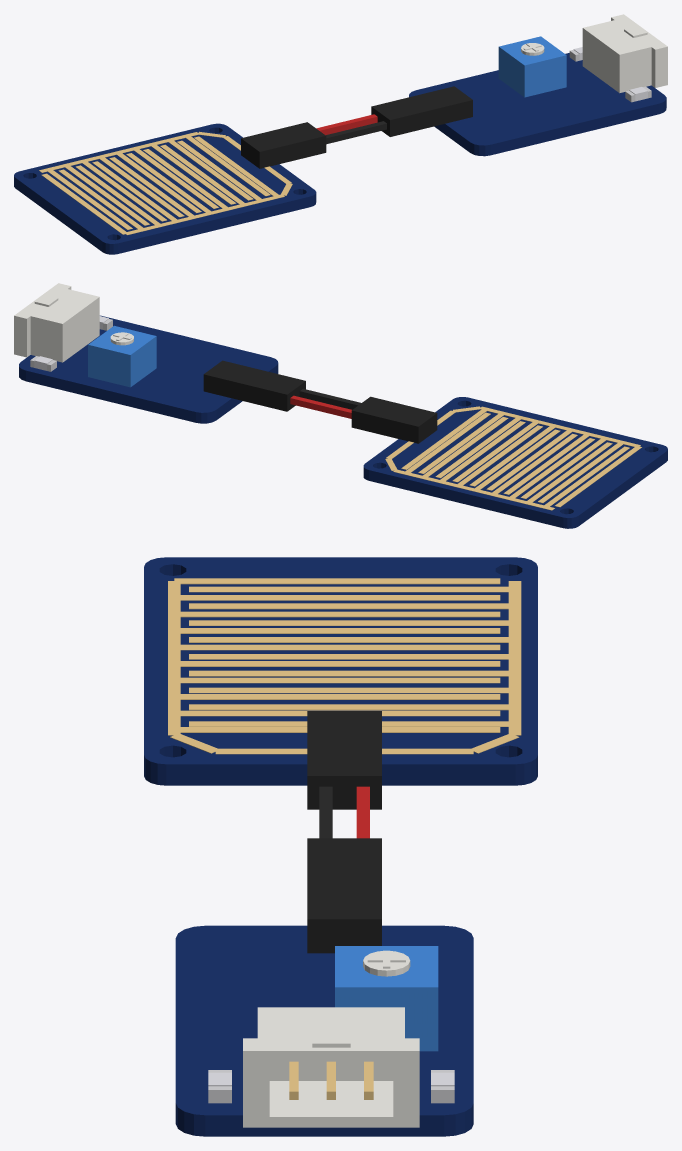
Rendered from rain.glb.
3 views of the same model, one above another, from view 1: azimuth 30°, elevation 25°; view 2: azimuth 150°, elevation 25°; view 3: azimuth 270°, elevation 25° (orthographic). The views are drawn at different scales.
Parts seen in each view (by area): view 1: rain_plate, rain_pcb, rain_comb, rain_xh, rain_pot, rain_h1, rain_jumper_a, rain_jumper_b, rain_plate_h1, rain_wire_black, rain_wire_red; view 2: rain_plate, rain_comb, rain_pcb, rain_xh, rain_pot, rain_h1, rain_jumper_a, rain_jumper_b, rain_plate_h1, rain_wire_red, rain_wire_black; view 3: rain_plate, rain_comb, rain_pcb, rain_xh, rain_pot, rain_h1, rain_jumper_b, rain_jumper_a, rain_plate_h1, rain, rain_pot_screw.
Boxes of the visible parts, left/top/right/bottom form: rain_plate: left=14, top=123, right=316, bottom=254; rain_pcb: left=409, top=53, right=666, bottom=156; rain_comb: left=39, top=131, right=292, bottom=235; rain_xh: left=582, top=14, right=667, bottom=93; rain_pot: left=498, top=36, right=566, bottom=97; rain_h1: left=410, top=86, right=472, bottom=127; rain_jumper_a: left=371, top=97, right=428, bottom=136; rain_jumper_b: left=269, top=122, right=326, bottom=161; rain_plate_h1: left=241, top=131, right=287, bottom=168; rain_wire_black: left=326, top=121, right=386, bottom=144; rain_wire_red: left=316, top=114, right=377, bottom=135; rain_plate: left=363, top=397, right=667, bottom=528; rain_comb: left=385, top=406, right=641, bottom=510; rain_pcb: left=19, top=315, right=278, bottom=423; rain_xh: left=14, top=283, right=99, bottom=362; rain_pot: left=88, top=325, right=156, bottom=387; rain_h1: left=203, top=360, right=266, bottom=402; rain_jumper_a: left=248, top=371, right=305, bottom=411; rain_jumper_b: left=351, top=396, right=408, bottom=436; rain_plate_h1: left=390, top=406, right=437, bottom=443; rain_wire_red: left=290, top=395, right=351, bottom=418; rain_wire_black: left=299, top=388, right=361, bottom=409; rain_plate: left=144, top=557, right=537, bottom=785; rain_comb: left=168, top=578, right=521, bottom=754; rain_pcb: left=175, top=925, right=473, bottom=1136; rain_xh: left=243, top=1007, right=419, bottom=1127; rain_pot: left=335, top=946, right=438, bottom=1051; rain_h1: left=307, top=875, right=381, bottom=953; rain_jumper_b: left=307, top=738, right=381, bottom=809; rain_jumper_a: left=307, top=838, right=381, bottom=875; rain_plate_h1: left=307, top=711, right=381, bottom=738; rain: left=289, top=1061, right=373, bottom=1099; rain_pot_screw: left=363, top=950, right=410, bottom=976.
Size of the model in its own units: 0.0915 by 0.00915 by 0.0267.
